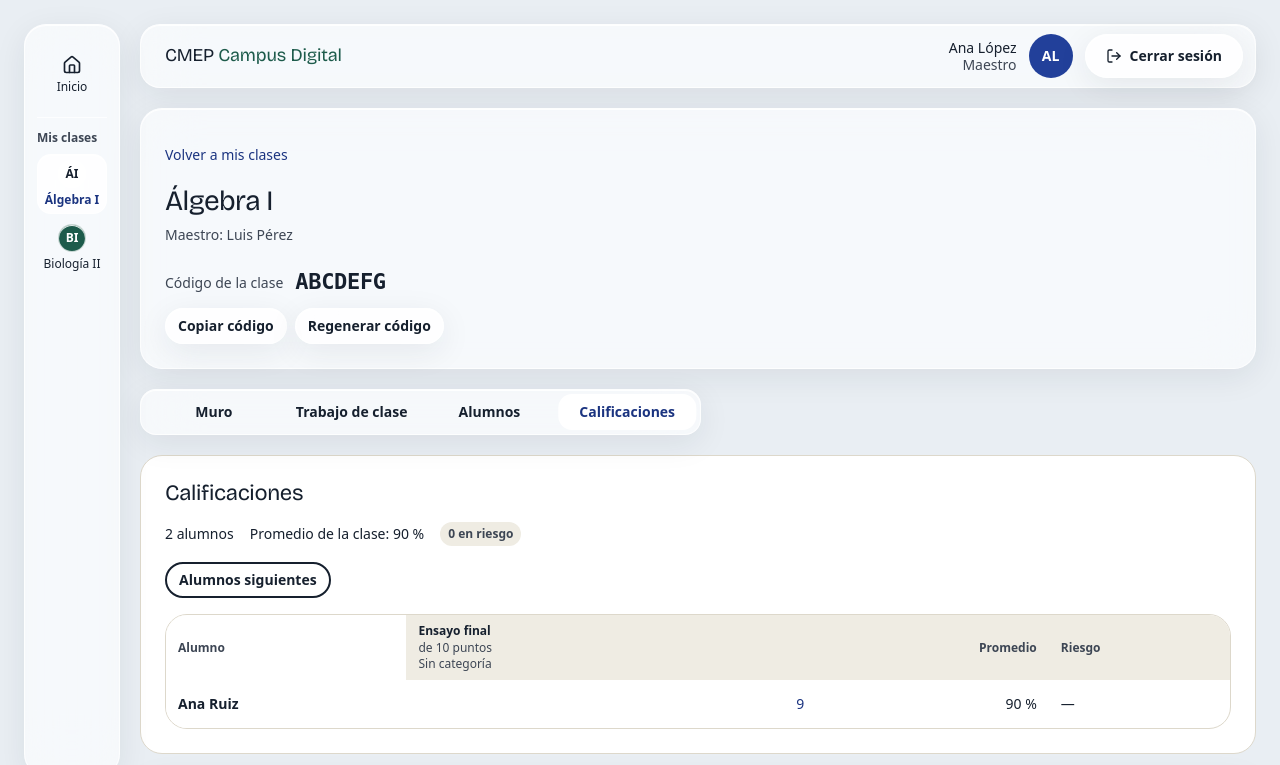
Test case: T-08: «Vuelve a abrir Calificaciones» pulsando la sección «Calificaciones» (la activa) › CAL-T-230 (control de T-07 con el router real): con el texto del cursor (vacia), ir a «Muro» y volver a «Calificaciones» antes de 30 s muestra la clase como est
expect the text "2 alumnos" is shown: met, box x1=165 y1=524 x2=234 y2=544
Click the button "Alumnos siguientes".
click(248, 580)  # box x1=165 y1=562 x2=331 y2=598
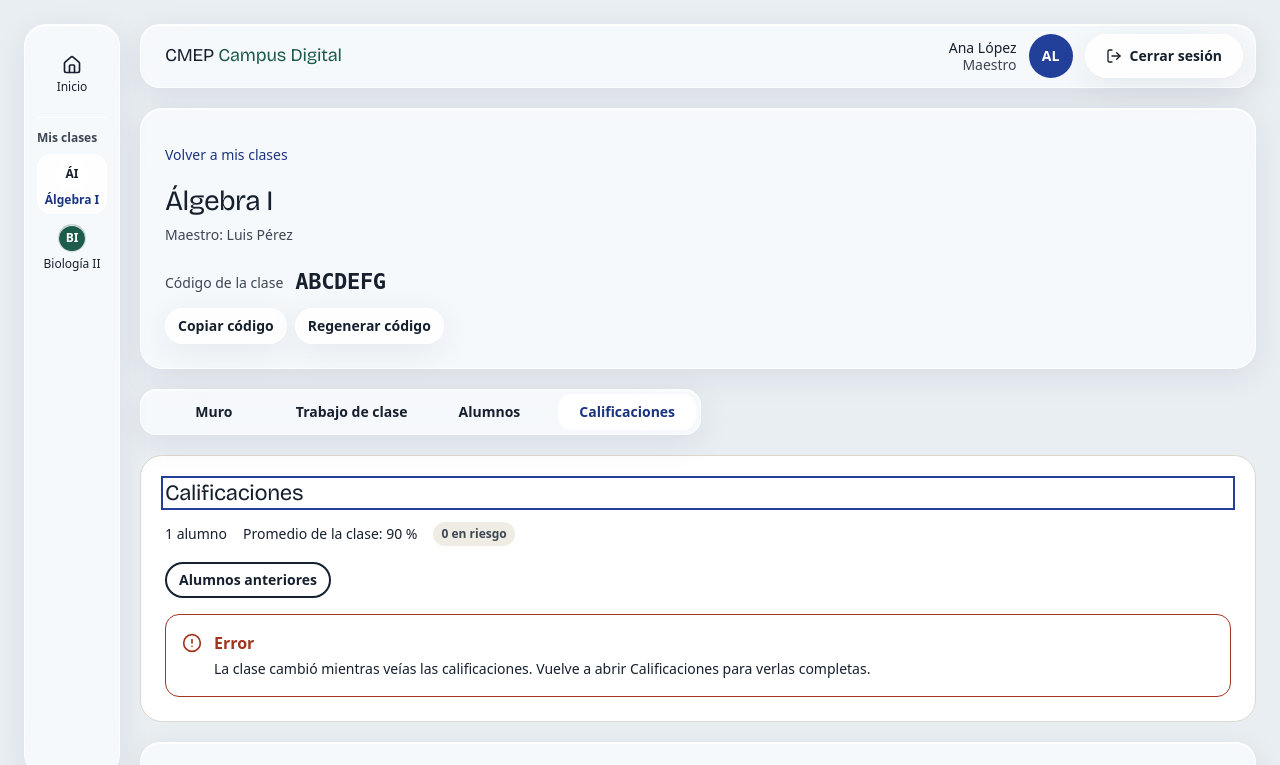
expect the text "La clase cambió mientras veías las calificaciones. Vuelve a abrir Calificaciones para verlas completas." is shown: met, box x1=214 y1=660 x2=870 y2=678
Click the link "Muro".
click(214, 411)  # box x1=195 y1=402 x2=232 y2=421
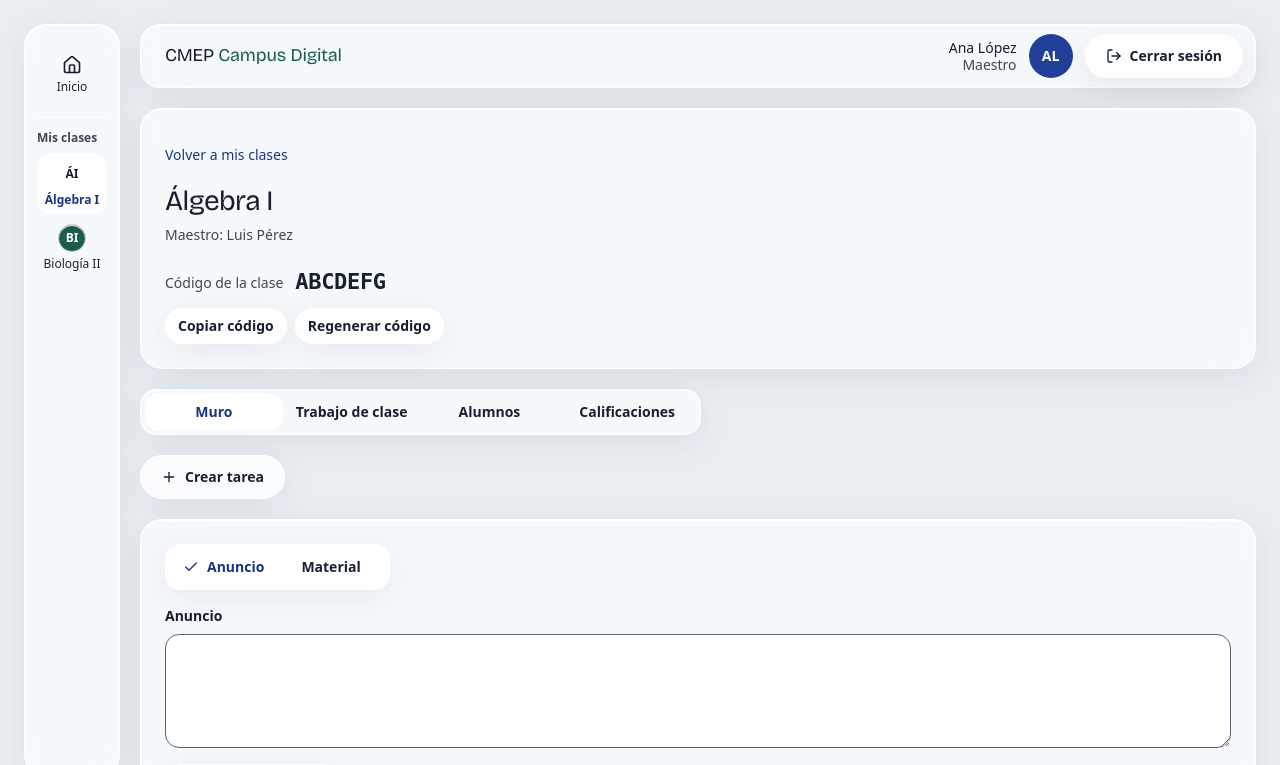
expect the text "La clase cambió mientras veías las calificaciones. Vuelve a abrir Calificaciones para verlas completas." is gone: met
Click the link "Calificaciones".
click(627, 411)  # box x1=579 y1=402 x2=675 y2=421
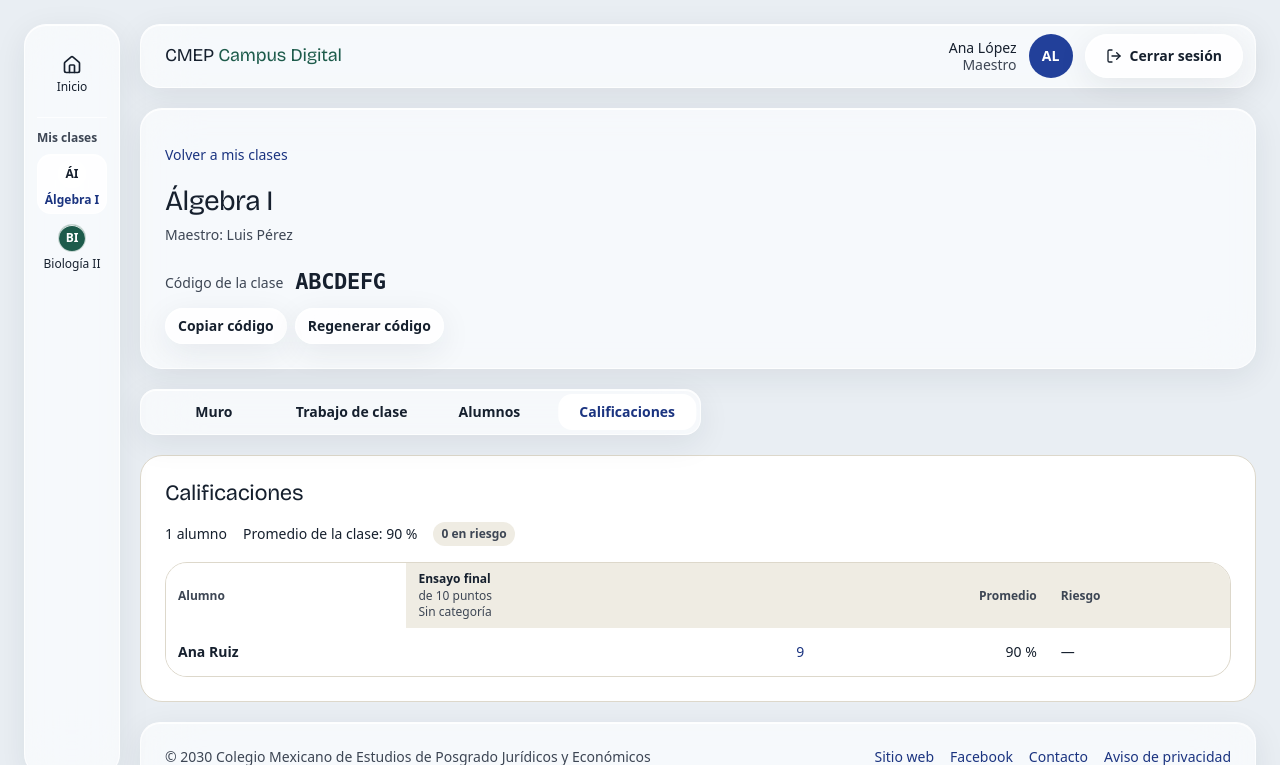
expect the button "Alumnos siguientes" is not shown: met
expect the text "1 alumno" is shown: met, box x1=165 y1=524 x2=227 y2=544
